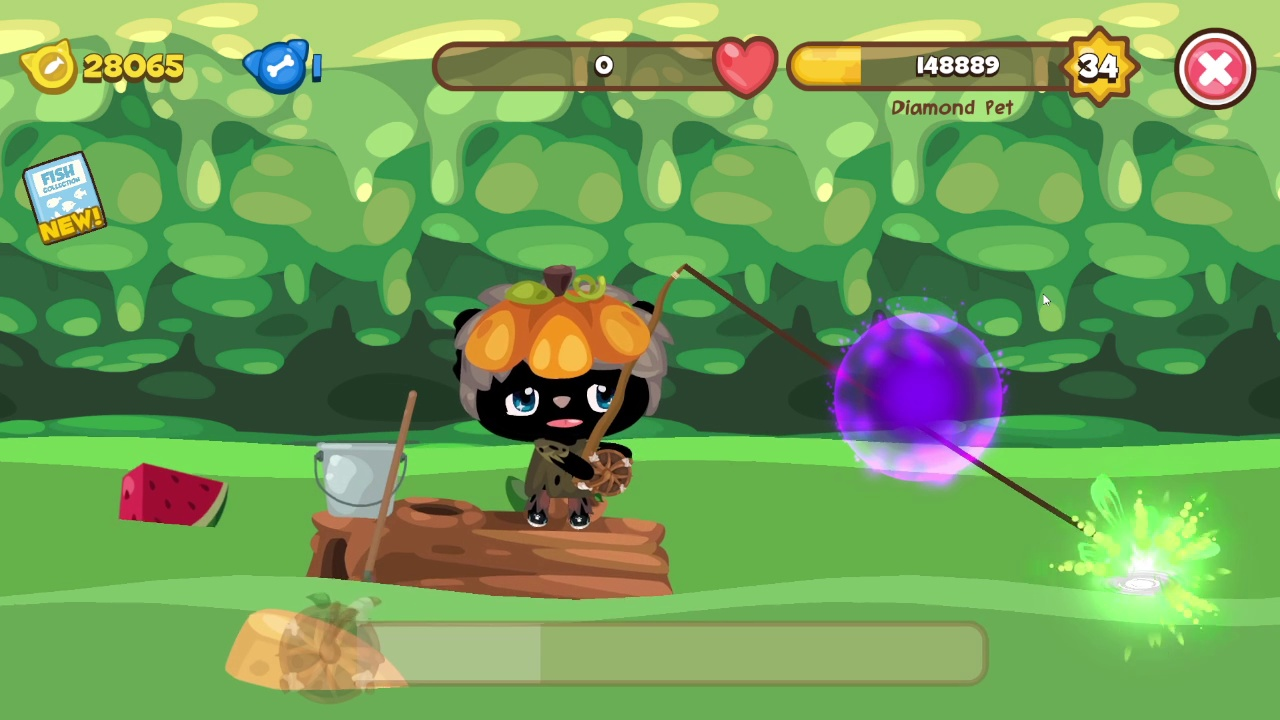point: (830, 312, 1007, 482)
